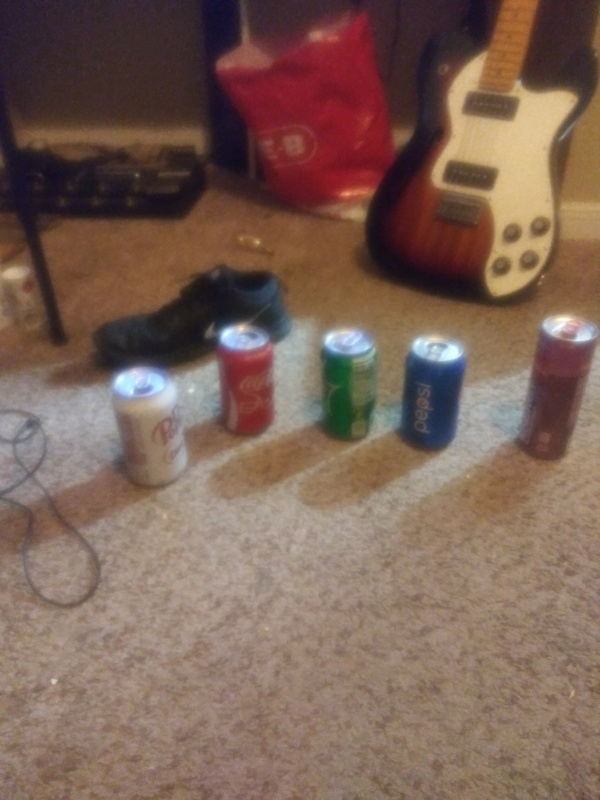can: (513, 312, 598, 465), (108, 362, 190, 489), (398, 331, 468, 451), (215, 321, 280, 438), (318, 325, 378, 443)
